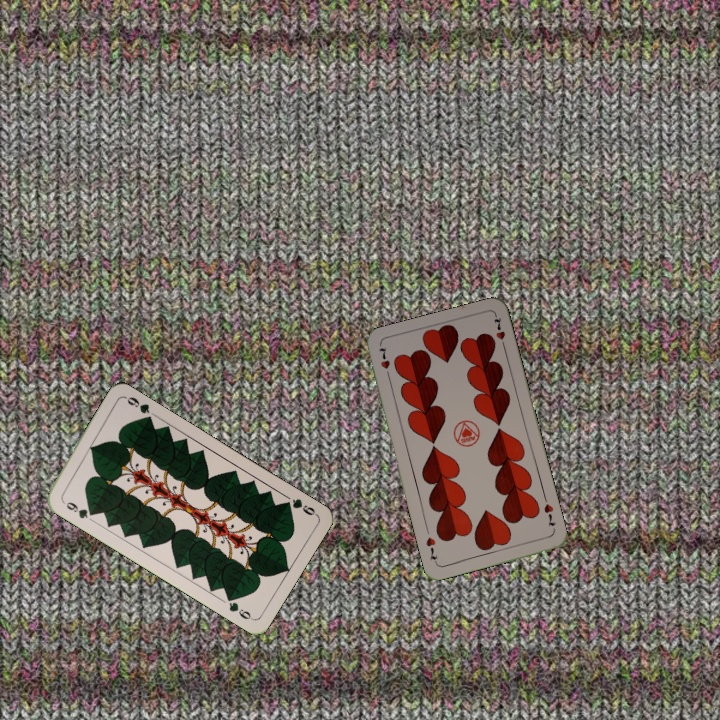G9: (58, 496, 97, 521), (279, 495, 319, 518)
H7: (375, 343, 393, 382), (540, 500, 558, 529)
